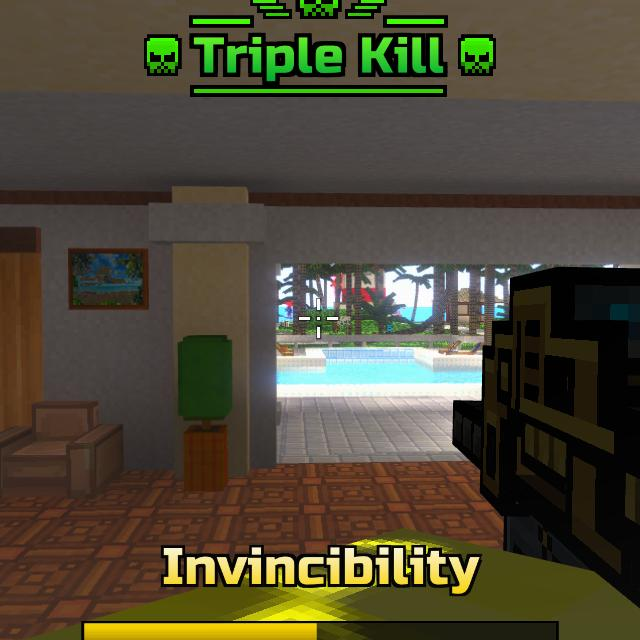Enemy: (284, 306, 292, 316)
